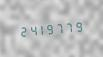four: (27, 22, 36, 38)
nine: (47, 20, 56, 36), (77, 17, 86, 33)
one: (37, 21, 46, 37)
seven: (57, 19, 66, 35), (67, 18, 76, 34)
two: (17, 22, 26, 39)
